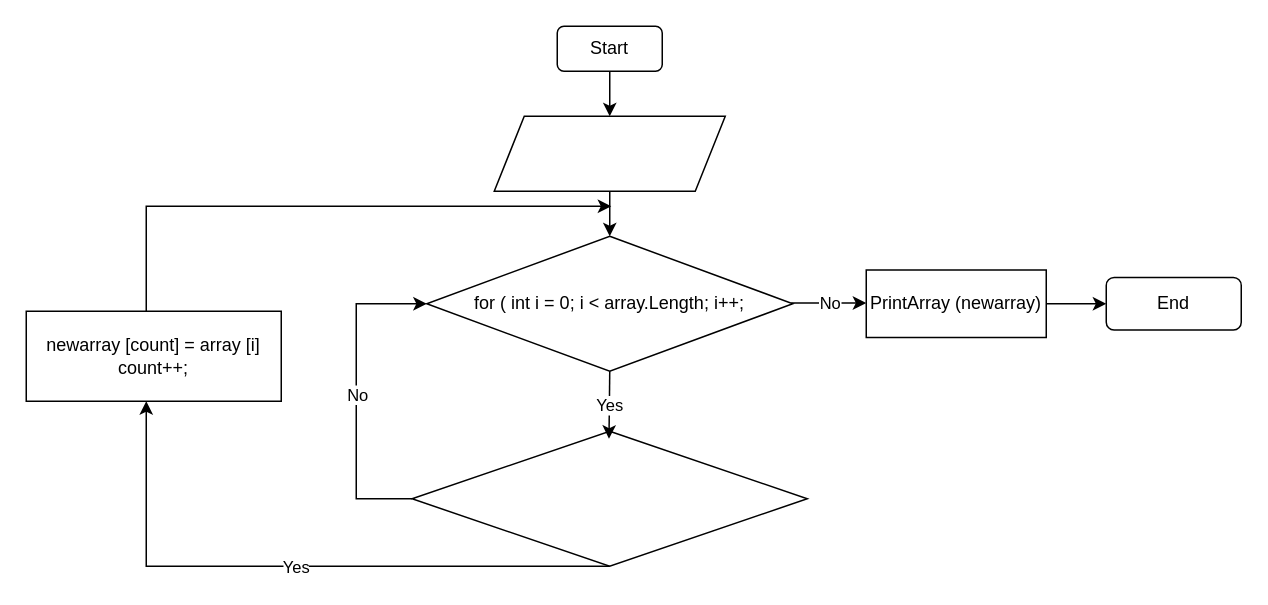
Image size: 1268x605. Some labels were removed from this diagram. Each missing label, with the box of its shape:
if (array [i].Length <= 3): (411, 430, 807, 566)
string [] array string [] newarray int count = 0: (493, 115, 725, 191)
